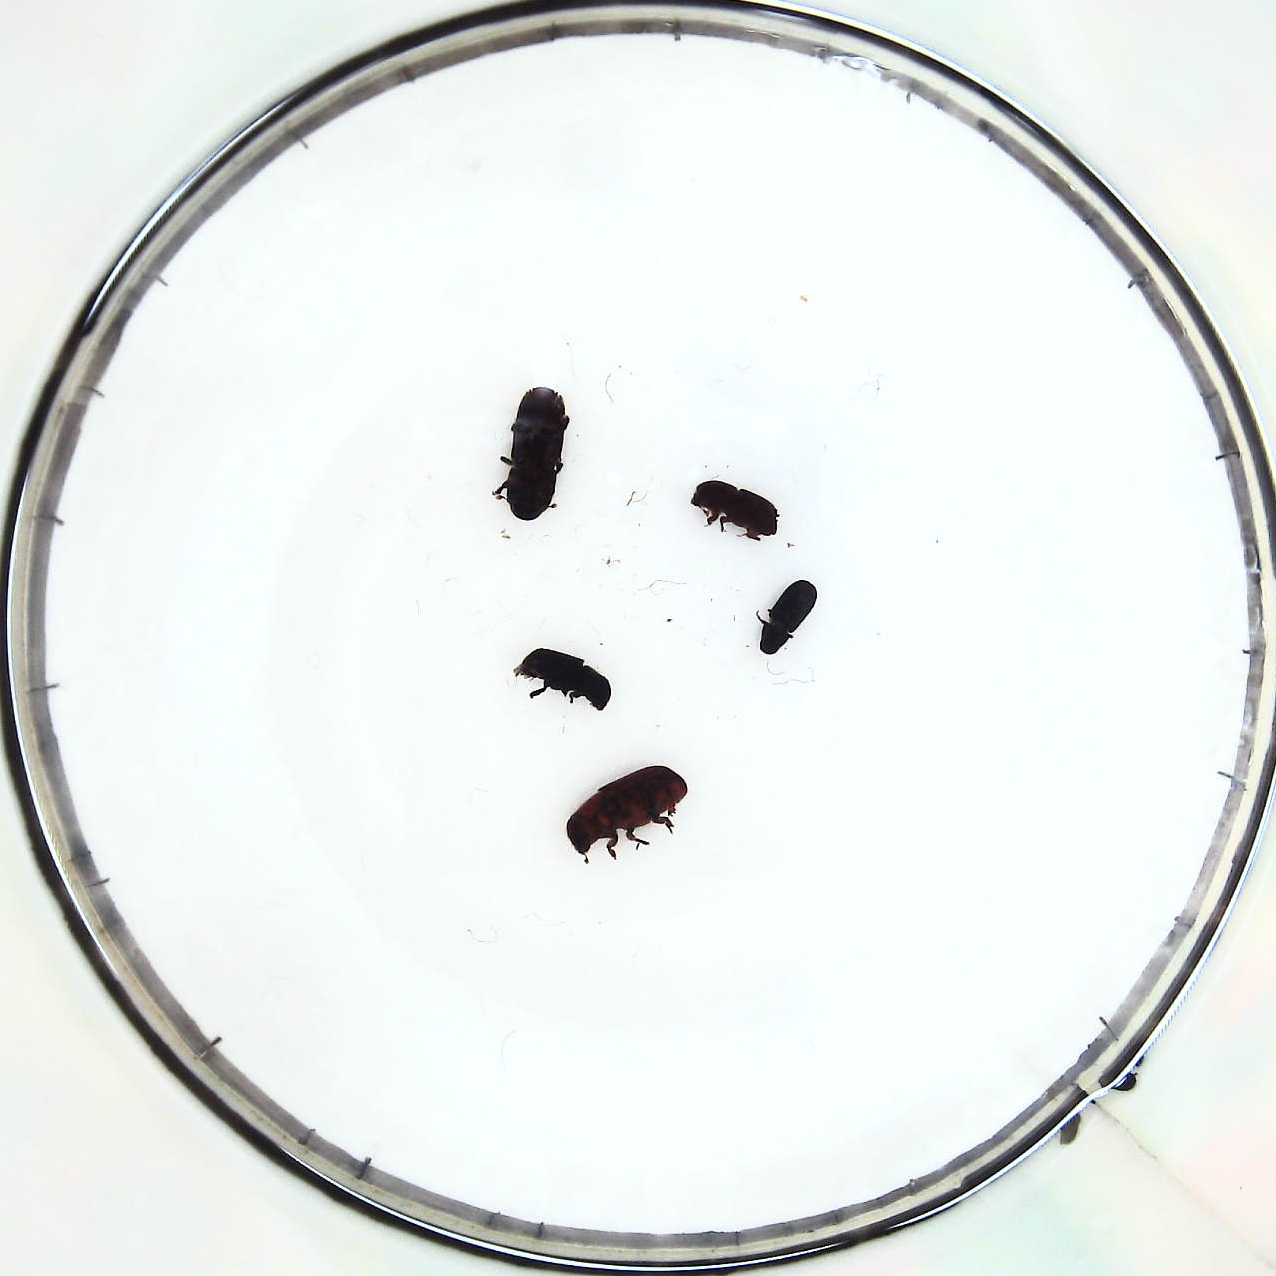Boerner: (497, 384, 569, 518)
Leconte: (570, 760, 684, 857)
Linnaeus: (688, 476, 779, 541)
armandi: (518, 642, 615, 717)
coleoptera: (758, 580, 819, 654)
